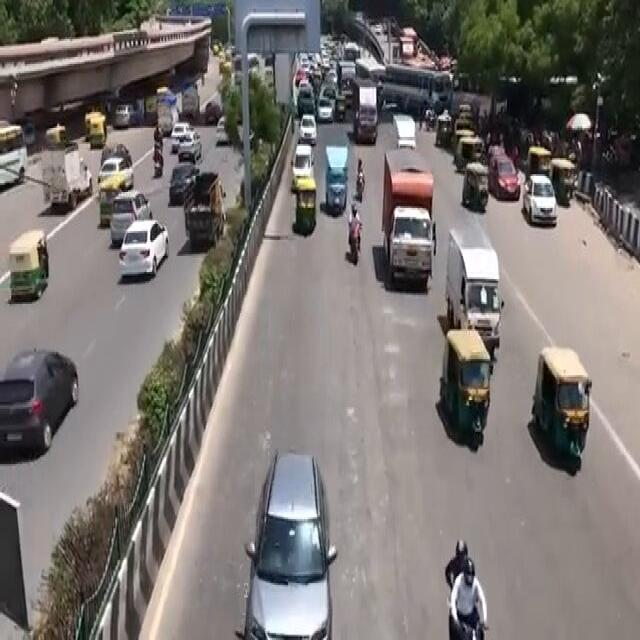three_wheeler: (524, 331, 596, 496)
